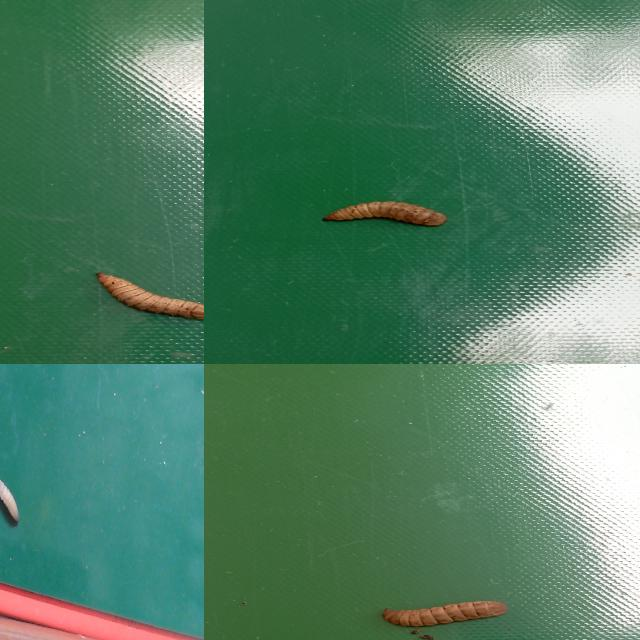Maggot: (96, 273, 204, 323), (381, 601, 508, 632), (322, 200, 448, 230), (0, 478, 22, 527)
